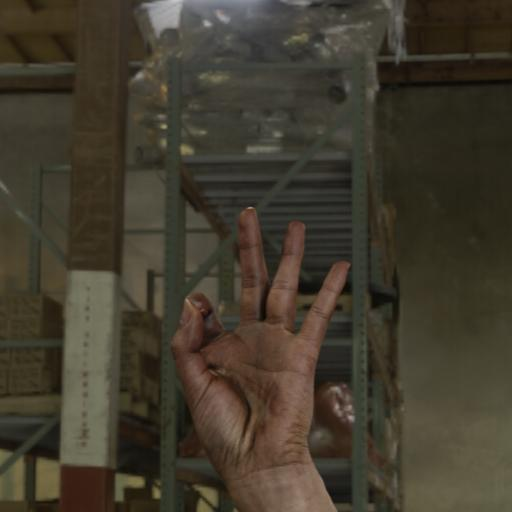F: (164, 199, 358, 493)
